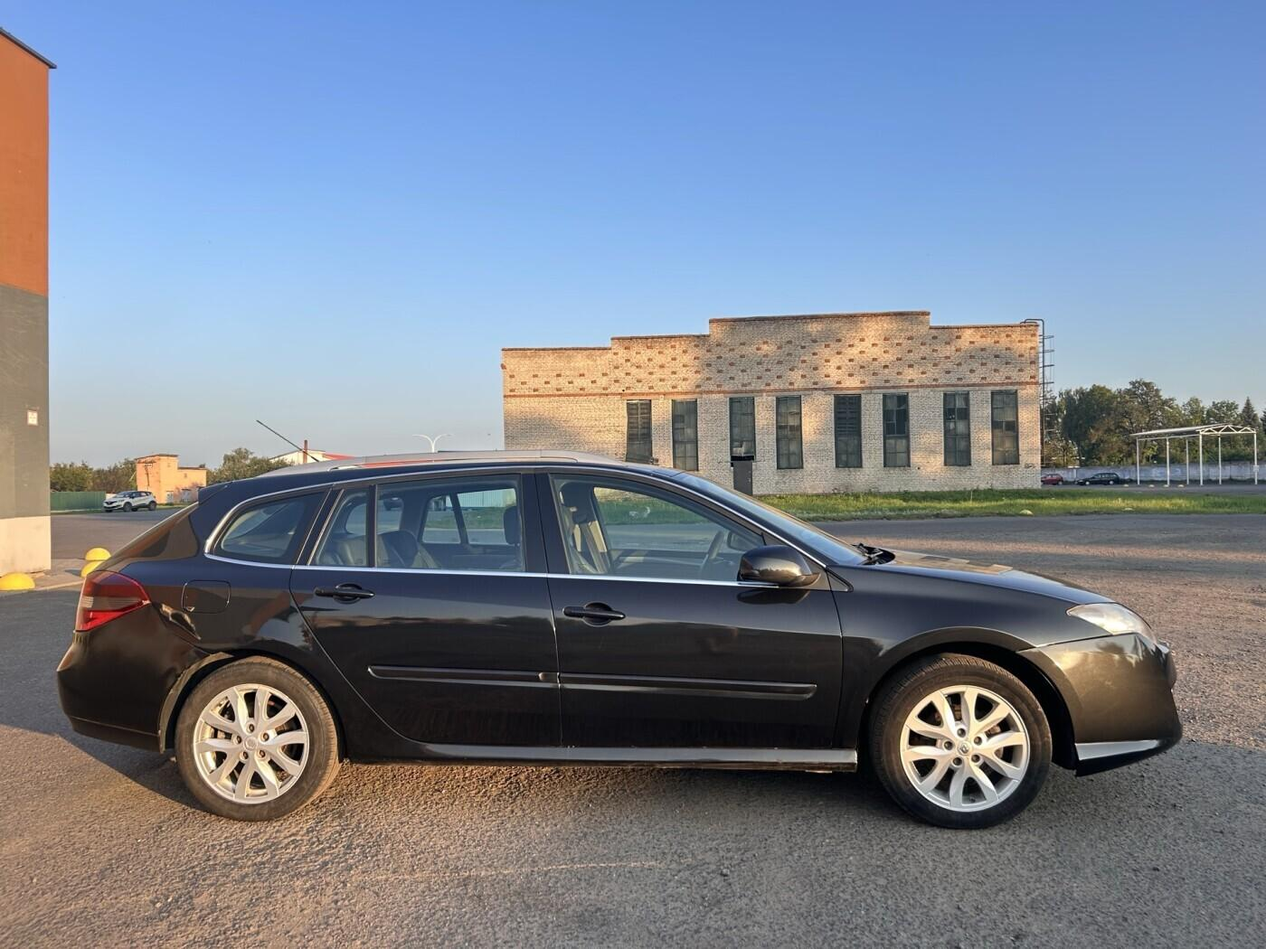Laguna_2007-2011: (56, 449, 1181, 828)
